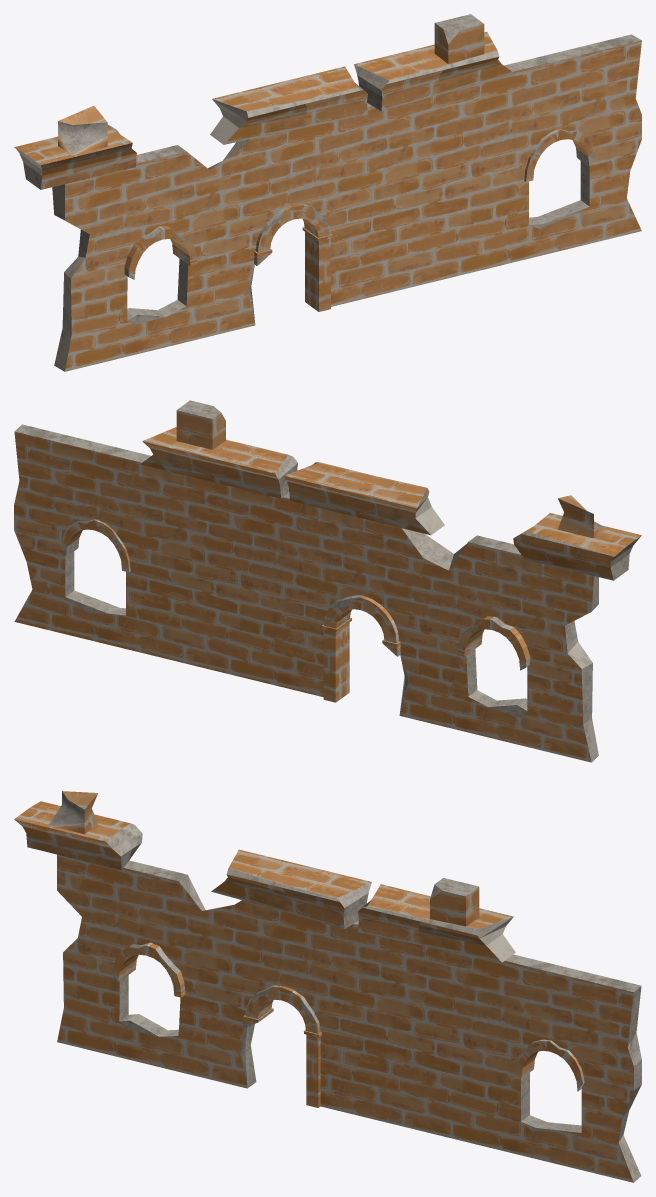
File: OldRuins_V1.fbx
3 views of the same model, one above another, from view 1: azimuth 30°, elevation 25°; view 2: azimuth 150°, elevation 25°; view 3: azimuth 330°, elevation 25° (orthographic).
Parts seen in each view (by area): view 1: pCube6, polySurface1064, polySurface849, polySurface859, polySurface1063, polySurface726, polySurface727, group2_polySurface1027, group2_polySurface990; view 2: pCube6, polySurface1064, polySurface849, polySurface859, polySurface1063, polySurface726, group2_polySurface1027, group2_polySurface990, polySurface727; view 3: pCube6, polySurface1064, polySurface849, polySurface859, polySurface1063, polySurface726, polySurface727, group2_polySurface1027, group2_polySurface990.
Part boxes in pixels (x1,y1,x2,y2): pCube6: (52,34,641,371); polySurface1064: (210,66,367,144); polySurface849: (354,32,514,111); polySurface859: (14,125,136,189); polySurface1063: (254,204,333,311); polySurface726: (434,14,484,63); polySurface727: (58,105,107,155); group2_polySurface1027: (124,226,197,279); group2_polySurface990: (524,128,594,181); pCube6: (14,424,598,762); polySurface1064: (284,462,444,535); polySurface849: (140,427,297,498); polySurface859: (513,513,641,580); polySurface1063: (321,595,400,702); polySurface726: (176,400,225,449); group2_polySurface1027: (457,616,530,670); group2_polySurface990: (60,519,130,572); polySurface727: (558,495,606,538); pCube6: (57,854,641,1182); polySurface1064: (211,849,371,929); polySurface849: (358,884,515,962); polySurface859: (14,801,142,870); polySurface1063: (243,985,321,1107); polySurface726: (430,878,479,926); polySurface727: (49,791,97,834); group2_polySurface1027: (112,942,185,997); group2_polySurface990: (514,1039,584,1091).
Bounding box in the file's own units: 2009 × 797 × 154.
6 materials, 6 textured.
